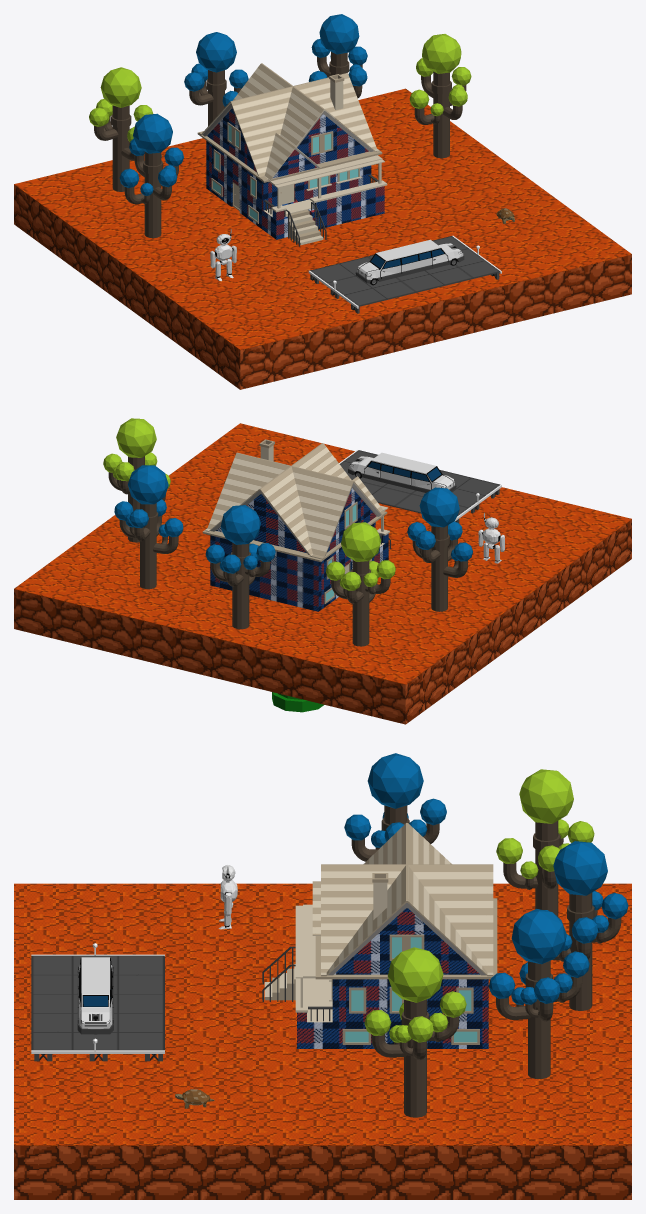
The picture shows the model from 3 angles, top to bottom: view 1: azimuth 30°, elevation 25°; view 2: azimuth 150°, elevation 25°; view 3: azimuth 270°, elevation 25°; orthographic projection. The views are drawn at different scales.
Visible parts, largest first — view 1: Cube.001, Cube.171, VEHICLES_LIMOUSINE, OBJRANDOM_PLATZEEBOT; view 2: Cube.001, Cube.171, VEHICLES_LIMOUSINE, OBJRANDOM_PLATZEEBOT, UNDERGROUND_PIPES; view 3: Cube.001, Cube.171, VEHICLES_LIMOUSINE, OBJRANDOM_PLATZEEBOT.
Boxes of the visible parts, bbox=[...] form: Cube.001: bbox=[14, 14, 631, 389]; Cube.171: bbox=[197, 63, 387, 246]; VEHICLES_LIMOUSINE: bbox=[355, 239, 464, 285]; OBJRANDOM_PLATZEEBOT: bbox=[210, 229, 236, 281]; Cube.001: bbox=[14, 418, 631, 724]; Cube.171: bbox=[202, 439, 390, 611]; VEHICLES_LIMOUSINE: bbox=[348, 452, 456, 492]; OBJRANDOM_PLATZEEBOT: bbox=[478, 513, 504, 563]; UNDERGROUND_PIPES: bbox=[272, 692, 324, 712]; Cube.001: bbox=[14, 753, 631, 1199]; Cube.171: bbox=[262, 823, 497, 1048]; VEHICLES_LIMOUSINE: bbox=[77, 957, 113, 1034]; OBJRANDOM_PLATZEEBOT: bbox=[218, 865, 237, 929].
Bounding box in the file's own units: 4000 × 2247 × 4000.
Materials: 33 (5 with a texture image).
